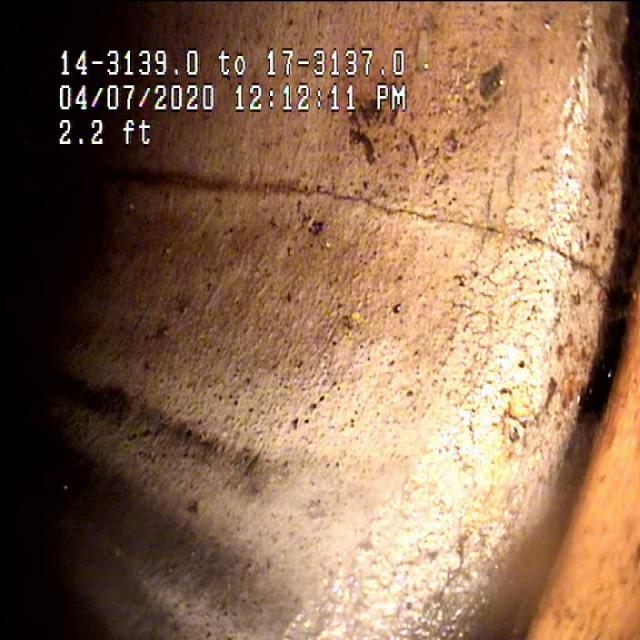Crack: (246, 139, 575, 268)
